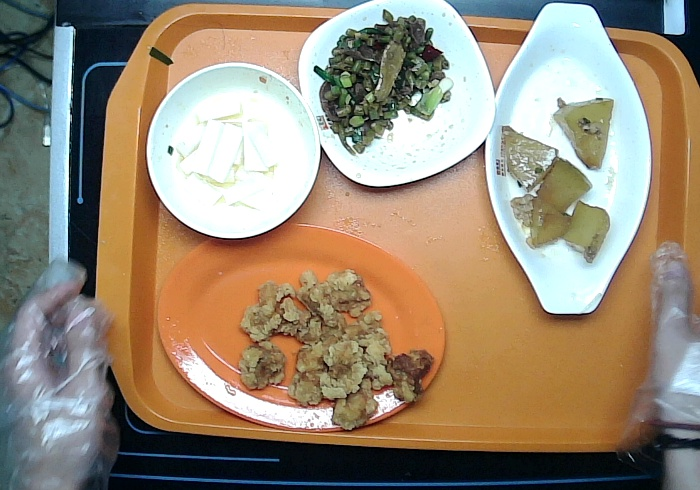NLDX-Bai_Se_Xiao_Fang_Die: (297, 1, 496, 186)
NLDX-Fan_Wan: (147, 62, 321, 238)
NLDX-Ju_Se_Pan: (158, 223, 446, 432)
NLDX-Yu_Pan: (484, 1, 653, 317)
